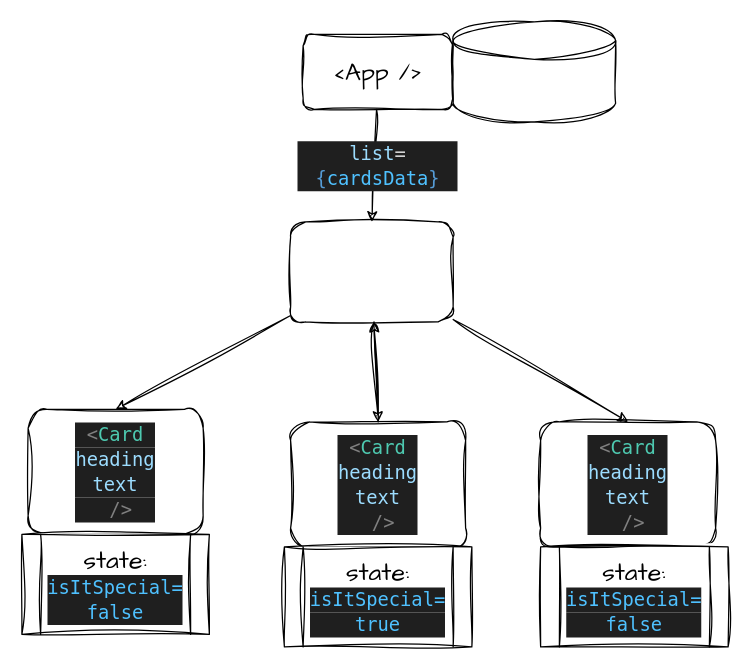
This 750x669 diagram has some shape labels left out. The shapes that lost their labels are listed below. From the top down, each one's centre as x and y in pixels, then its label:
pixel 534 71: cardData[]
pixel 371 271: < CardList list=[] />
